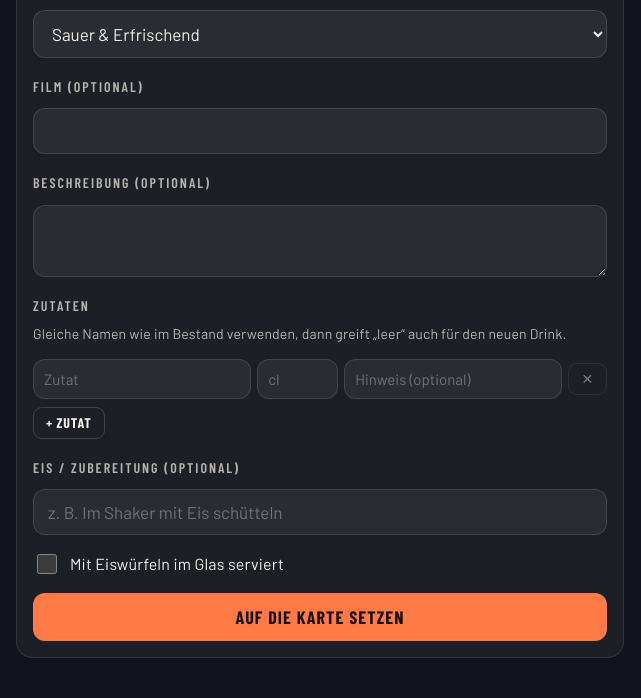
Test case: MenuEditorPage › checks name, ingredients and amounts before sending
(page scrolled)
Click the button "Auf die Karte setzen" at coordinates (320, 617), box [33,593,607,641]
(page scrolled)
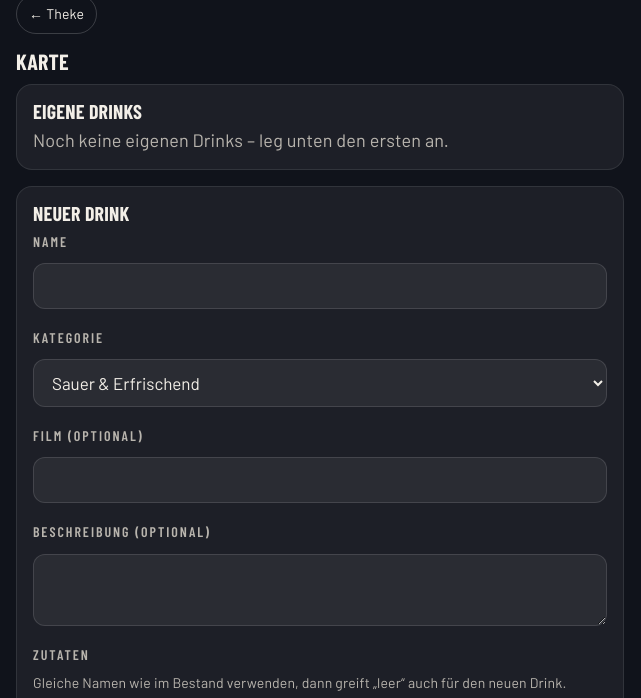
Type "Test" into the field labelled "Name" at coordinates (320, 286), box [33,263,607,309]
(page scrolled)
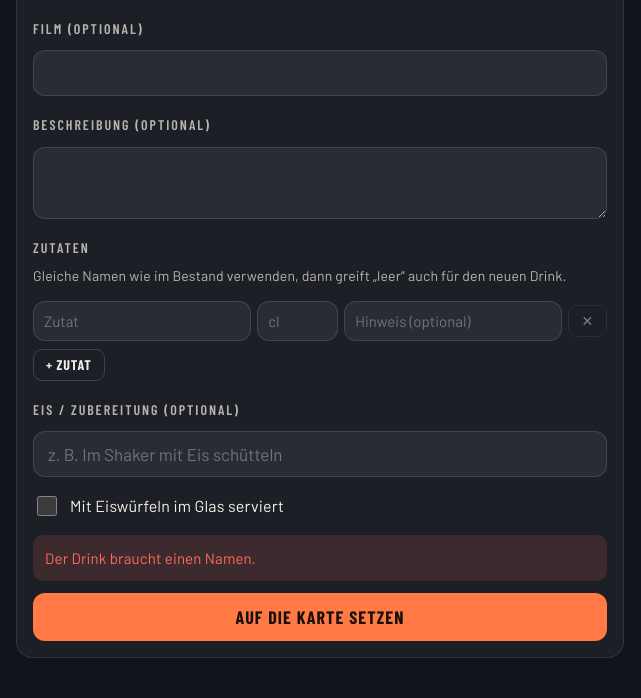
Click the button "Auf die Karte setzen" at coordinates (320, 617), box [33,593,607,641]
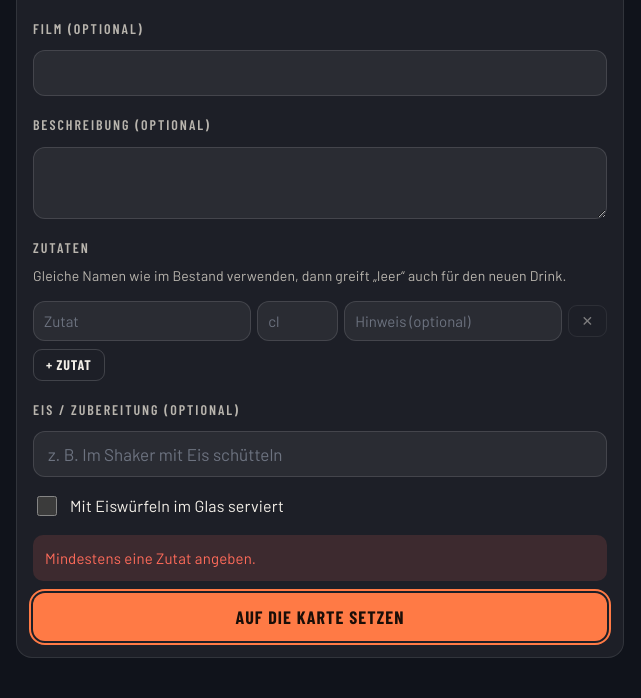
Now the text "Mindestens eine Zutat angeben." is shown, box [33,535,607,581]
Type "Rum" into the field named "Zutat 1" at coordinates (142, 321), box [33,301,251,341]
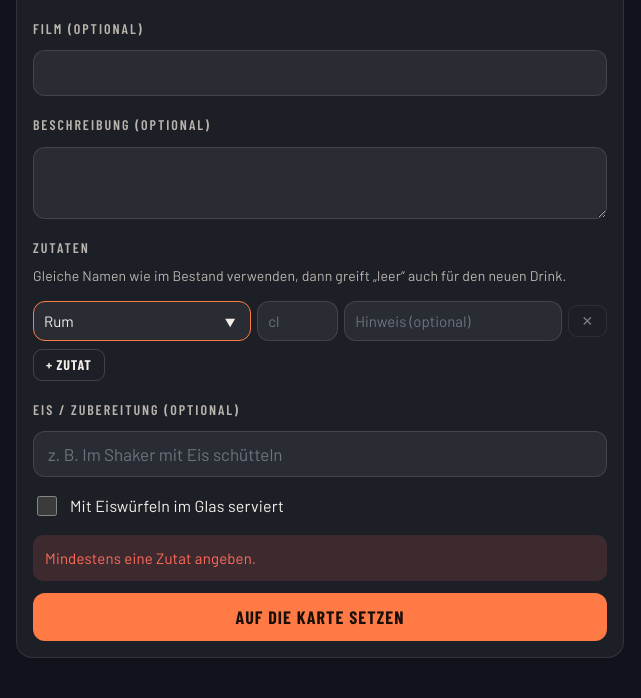
Type "80" into the field named "Menge in cl für Zutat 1" at coordinates (298, 321), box [257,301,338,341]
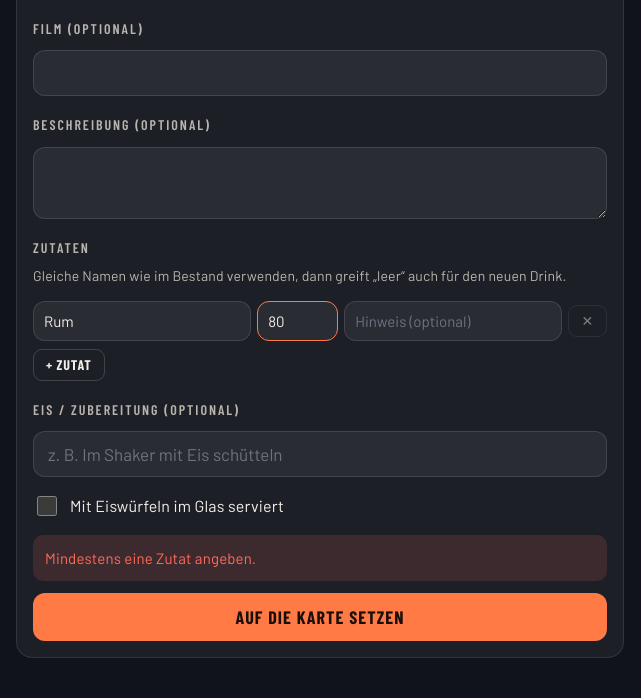
Click the button "Auf die Karte setzen" at coordinates (320, 617), box [33,593,607,641]
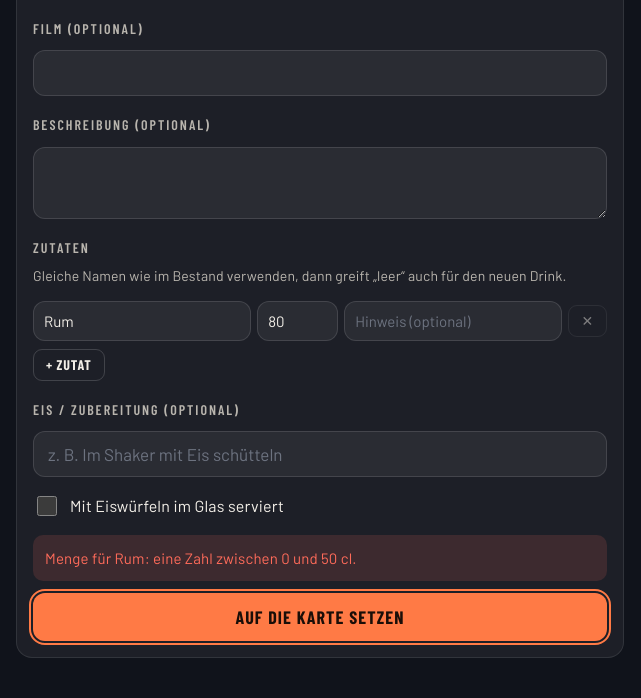
Now the text "Menge für Rum: eine Zahl zwischen 0 und 50 cl." is shown, box [33,535,607,581]
